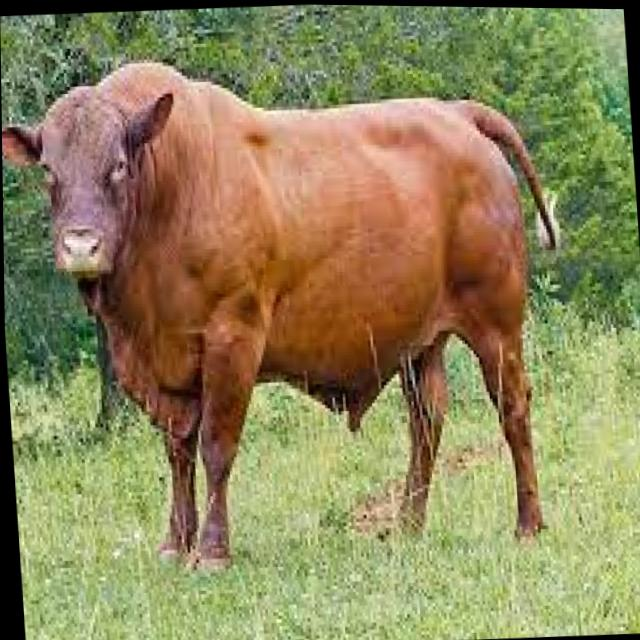cowFace: (0, 38, 200, 328)
